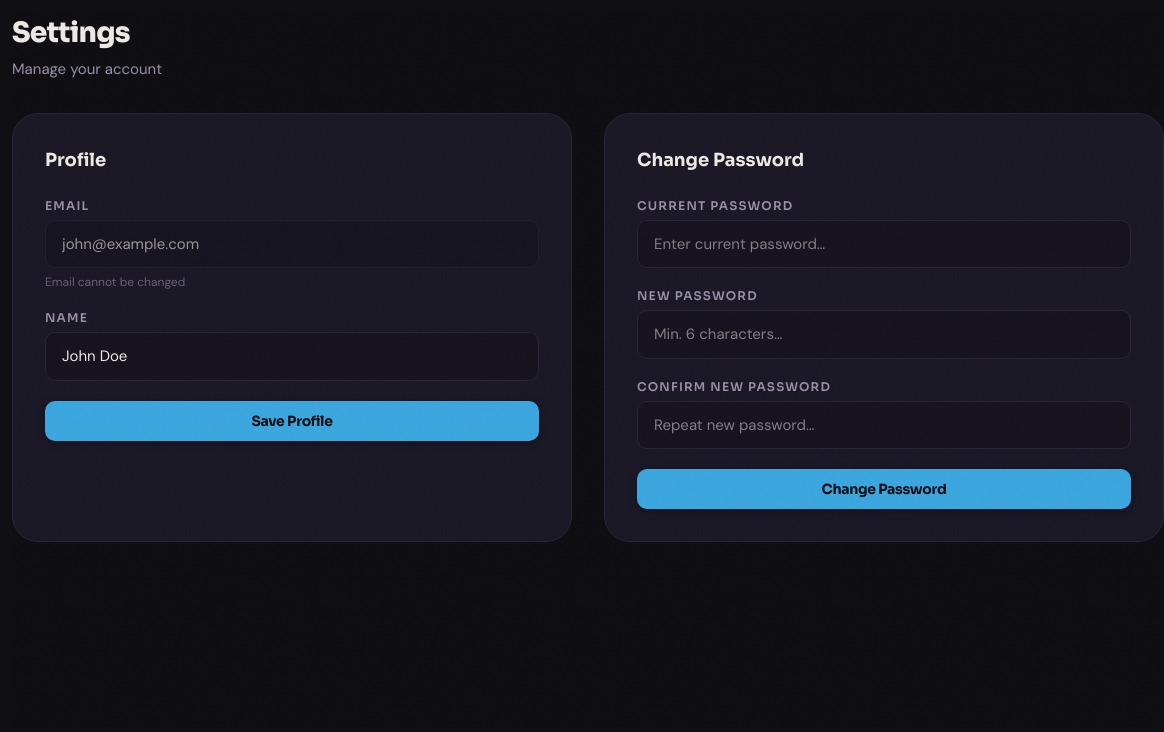
SettingsPage › shows profile update success message
Click the button "Save Profile": (292, 420) [45, 400, 539, 440]
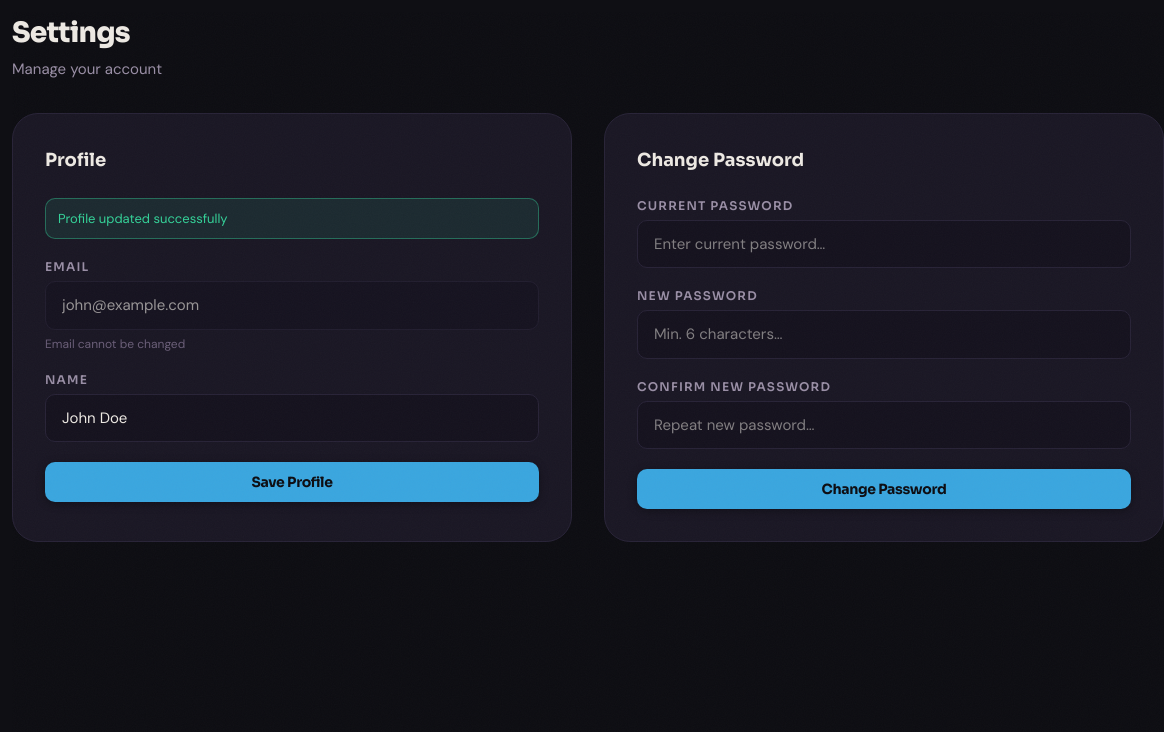
Check: the text "Profile updated successfully" is shown, box [45, 198, 539, 239]
